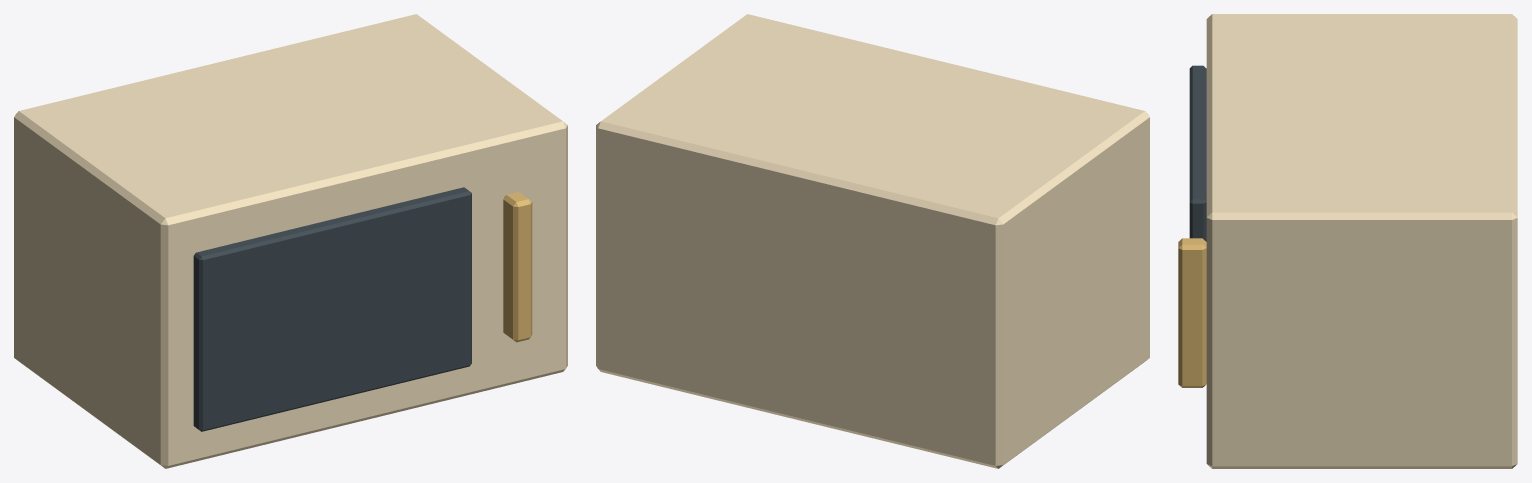
Rendered from SM_CH_Paper_Microwave.fbx.
The picture shows the model from 3 angles, left to right: view 1: azimuth 30°, elevation 25°; view 2: azimuth 150°, elevation 25°; view 3: azimuth 270°, elevation 25°; orthographic projection. The views are drawn at different scales.
Visible parts, largest first — view 1: SM_CH_Paper_Microwave; view 2: SM_CH_Paper_Microwave; view 3: SM_CH_Paper_Microwave.
Boxes of the visible parts, bbox=[...] form: SM_CH_Paper_Microwave: bbox=[14, 14, 567, 468]; SM_CH_Paper_Microwave: bbox=[596, 14, 1149, 468]; SM_CH_Paper_Microwave: bbox=[1178, 14, 1517, 468].
Bounding box in the file's own units: 8500 × 6000 × 5000.
